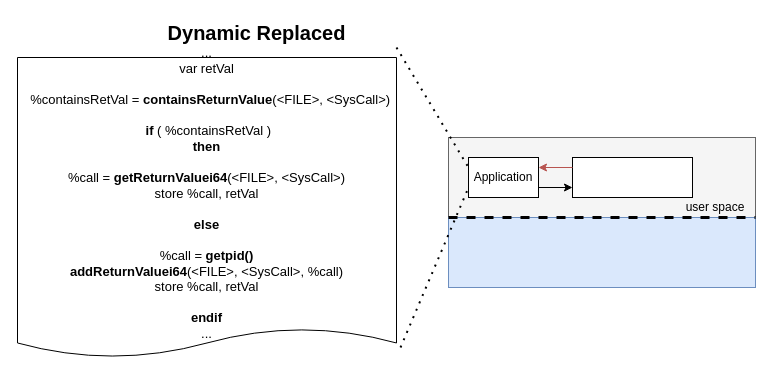
Image size: 776x375. Some labels were removed from this diagram. Each missing label, with the box of its shape:
kernel space: (448, 216, 756, 288)
rvstore.so: (572, 156, 692, 198)
